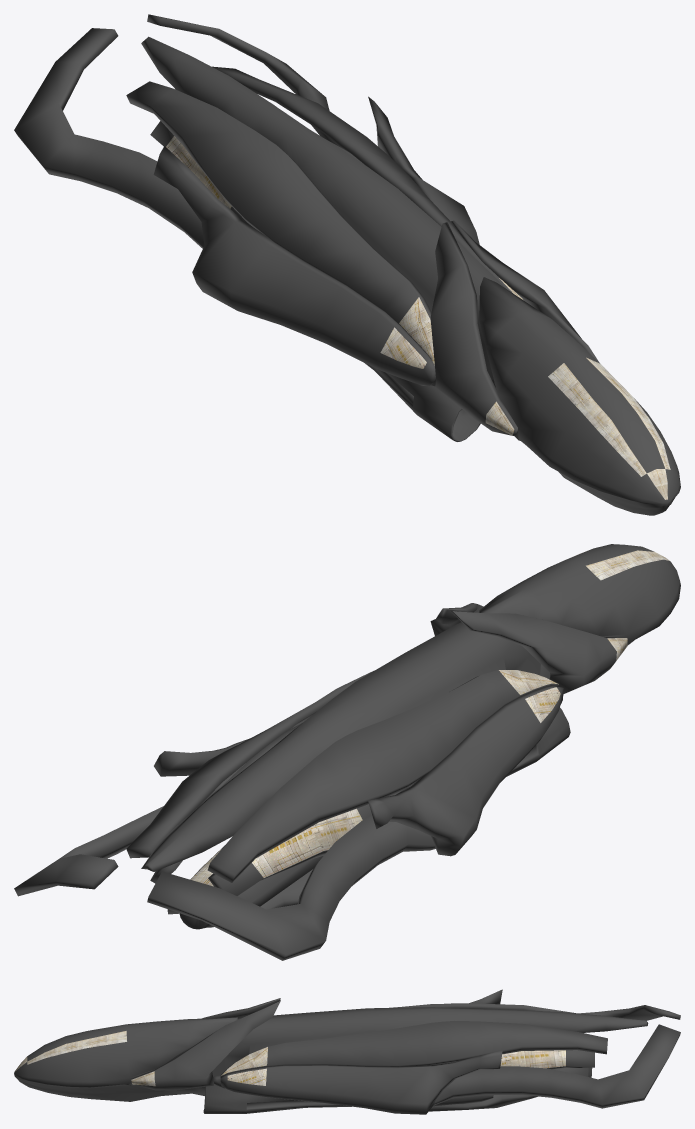
The model's file is Uharbinger.dae.
3 renders of one model, top to bottom at view 1: azimuth 30°, elevation 25°; view 2: azimuth 150°, elevation 25°; view 3: azimuth 270°, elevation 25°, orthographic. The views are drawn at different scales.
Parts seen in each view (by area): view 1: Uharbingernat; view 2: Uharbingernat; view 3: Uharbingernat.
Boxes of the visible parts, bbox=[...] form: Uharbingernat: bbox=[14, 14, 680, 515]; Uharbingernat: bbox=[14, 544, 680, 960]; Uharbingernat: bbox=[14, 989, 680, 1114].
Bounding box in the file's own units: 0.8397 × 0.5067 × 2.81.
Materials: 27 (13 with a texture image).
